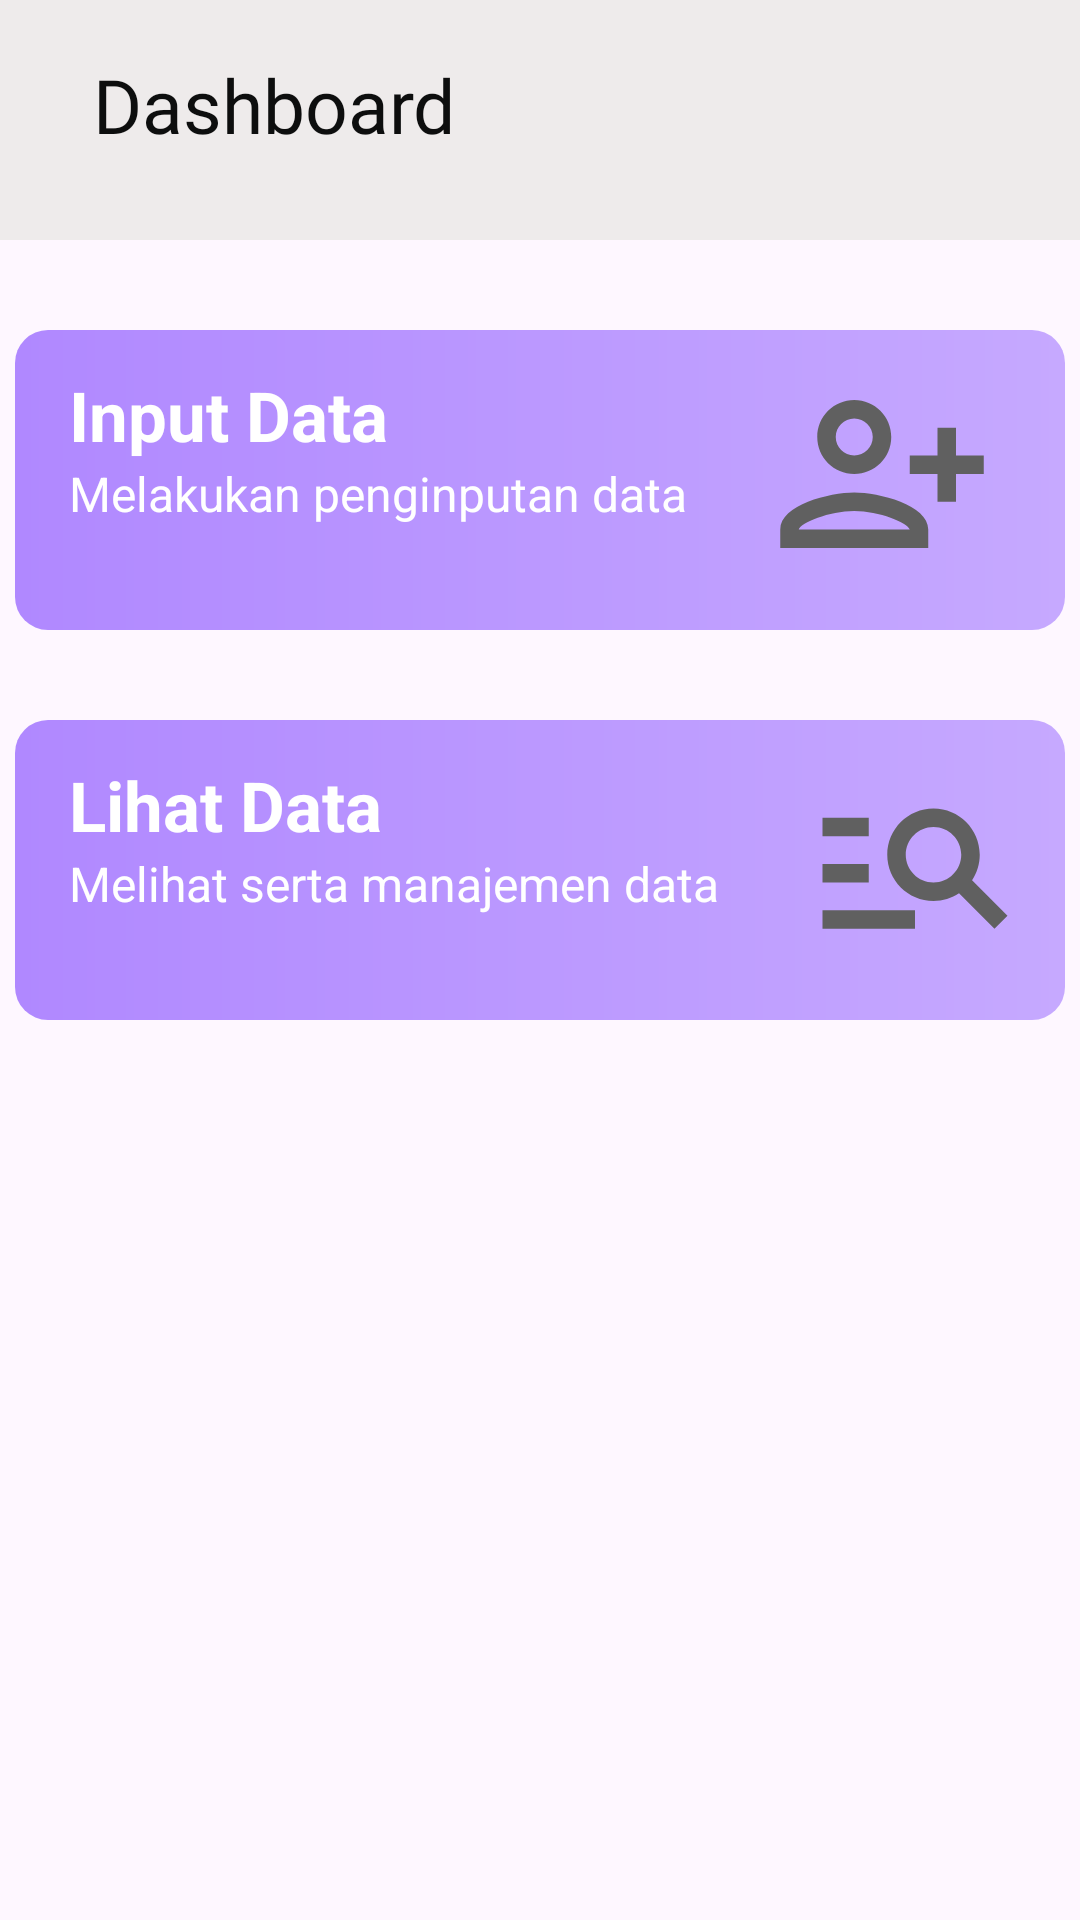

Where to tap for icons on this 1080 x 1920 app screen, as [x,y]:
lihat data: [915,868]
